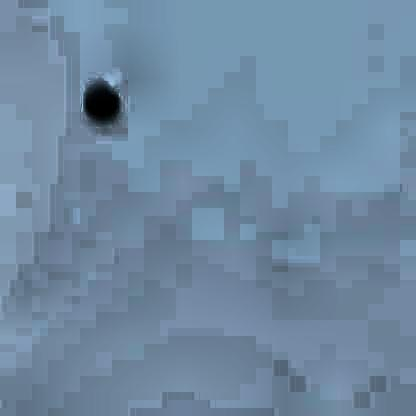golfball: (82, 73, 115, 115)
